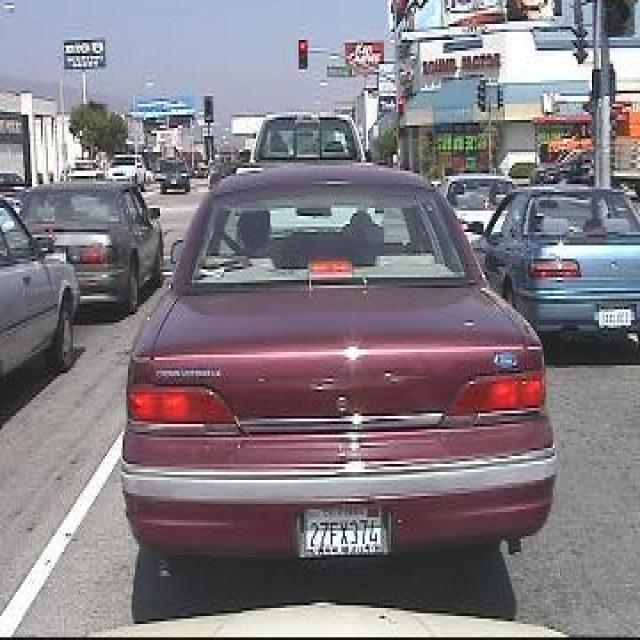car_back: (106, 159, 558, 601)
